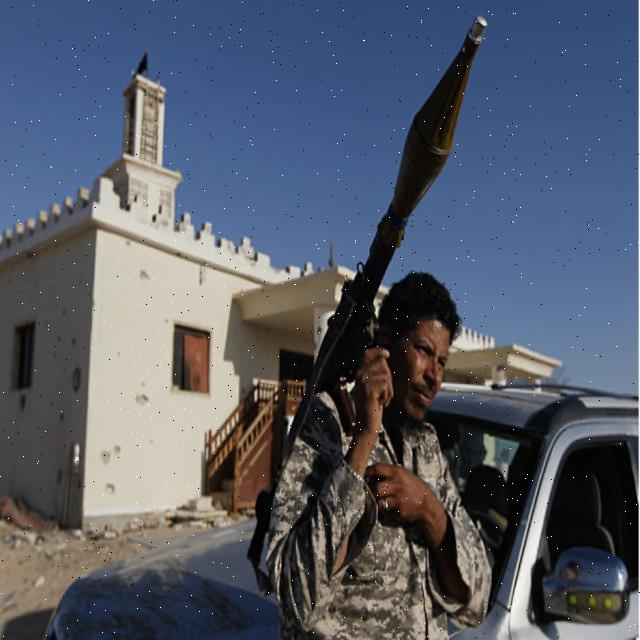bazooka: (286, 3, 495, 439)
